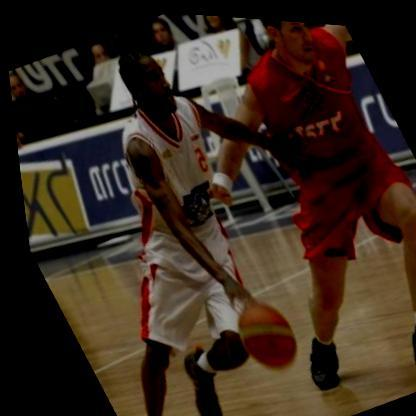basketball: (212, 281, 305, 378)
